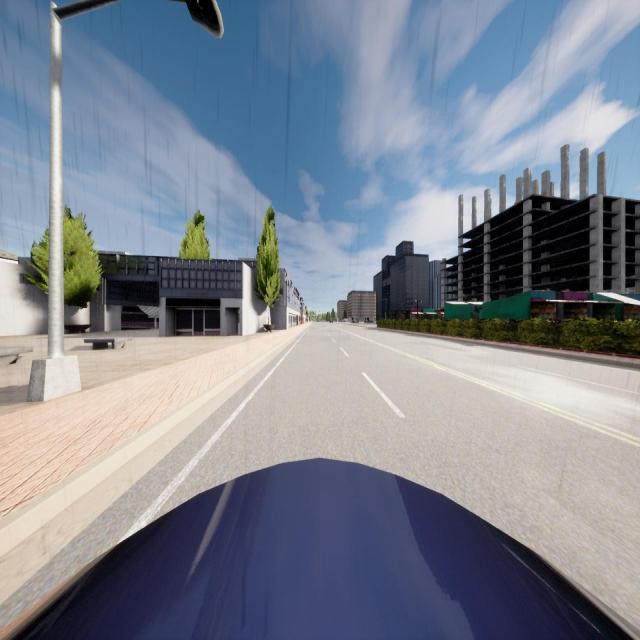Vehicle: (0, 457, 640, 639), (364, 319, 374, 323), (351, 319, 359, 323), (330, 320, 333, 324)
